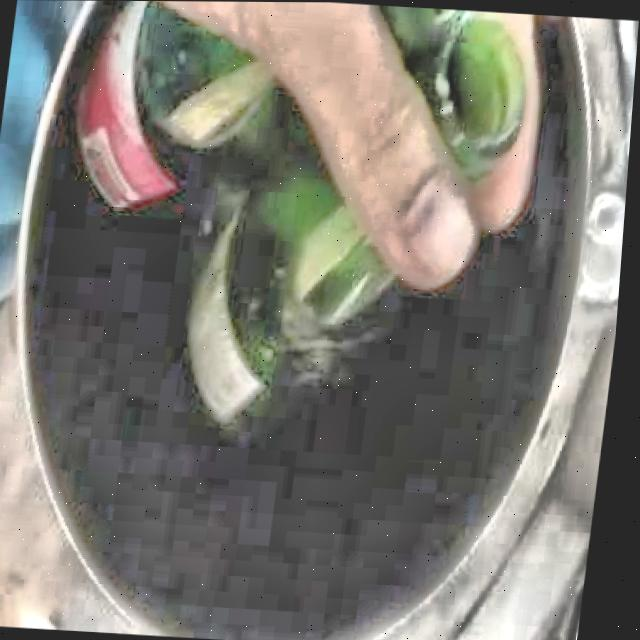glass: (79, 1, 397, 422), (375, 5, 528, 182)
